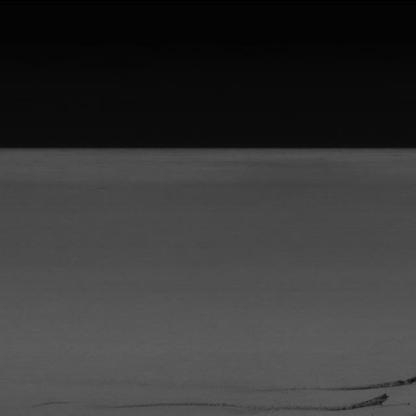inclusion: (186, 396, 394, 416), (291, 377, 416, 395)
